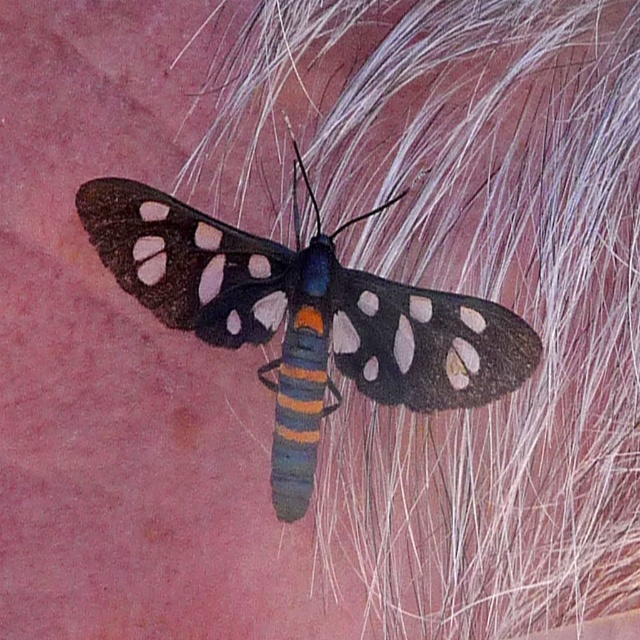Butterfly: (68, 111, 526, 510)
